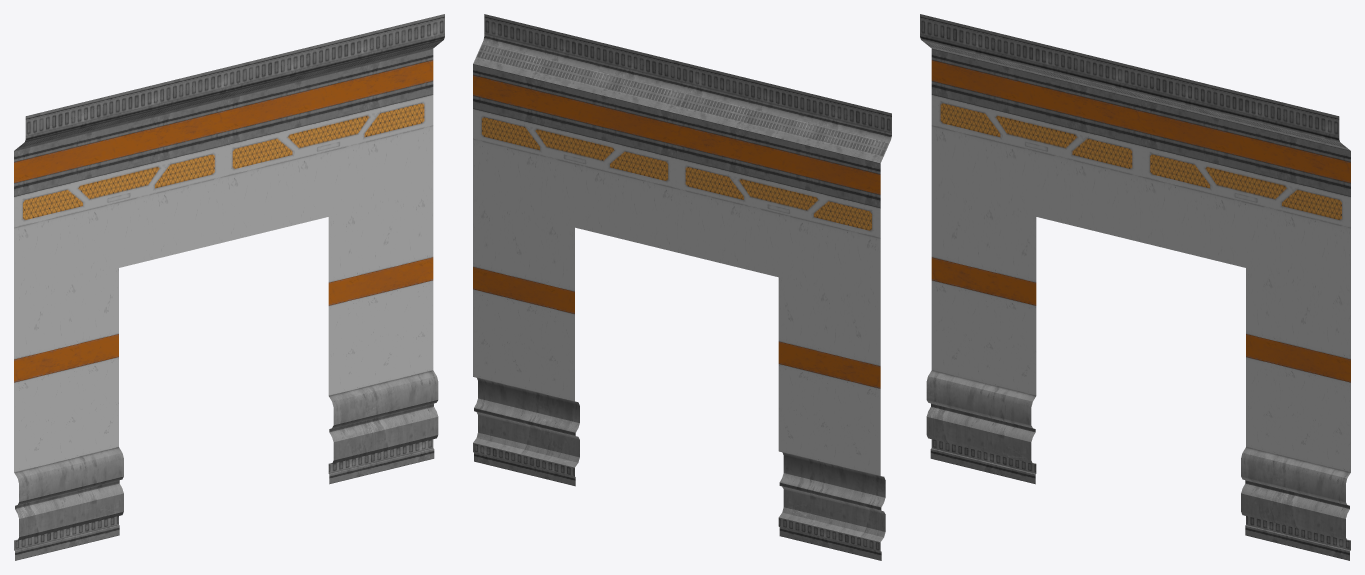
The model's file is Door_WallArch.fbx.
The picture shows the model from 3 angles, left to right: view 1: azimuth 30°, elevation 25°; view 2: azimuth 150°, elevation 25°; view 3: azimuth 330°, elevation 25°; orthographic projection. The views are drawn at different scales.
Visible parts, largest first — view 1: WallDoor; view 2: WallDoor; view 3: WallDoor.
Part boxes in pixels (left/top/right/bottom): WallDoor: left=14, top=14, right=444, bottom=560; WallDoor: left=473, top=14, right=891, bottom=560; WallDoor: left=920, top=14, right=1350, bottom=560.
Size of the model in its own units: 8.49 by 8.76 by 0.4041.
